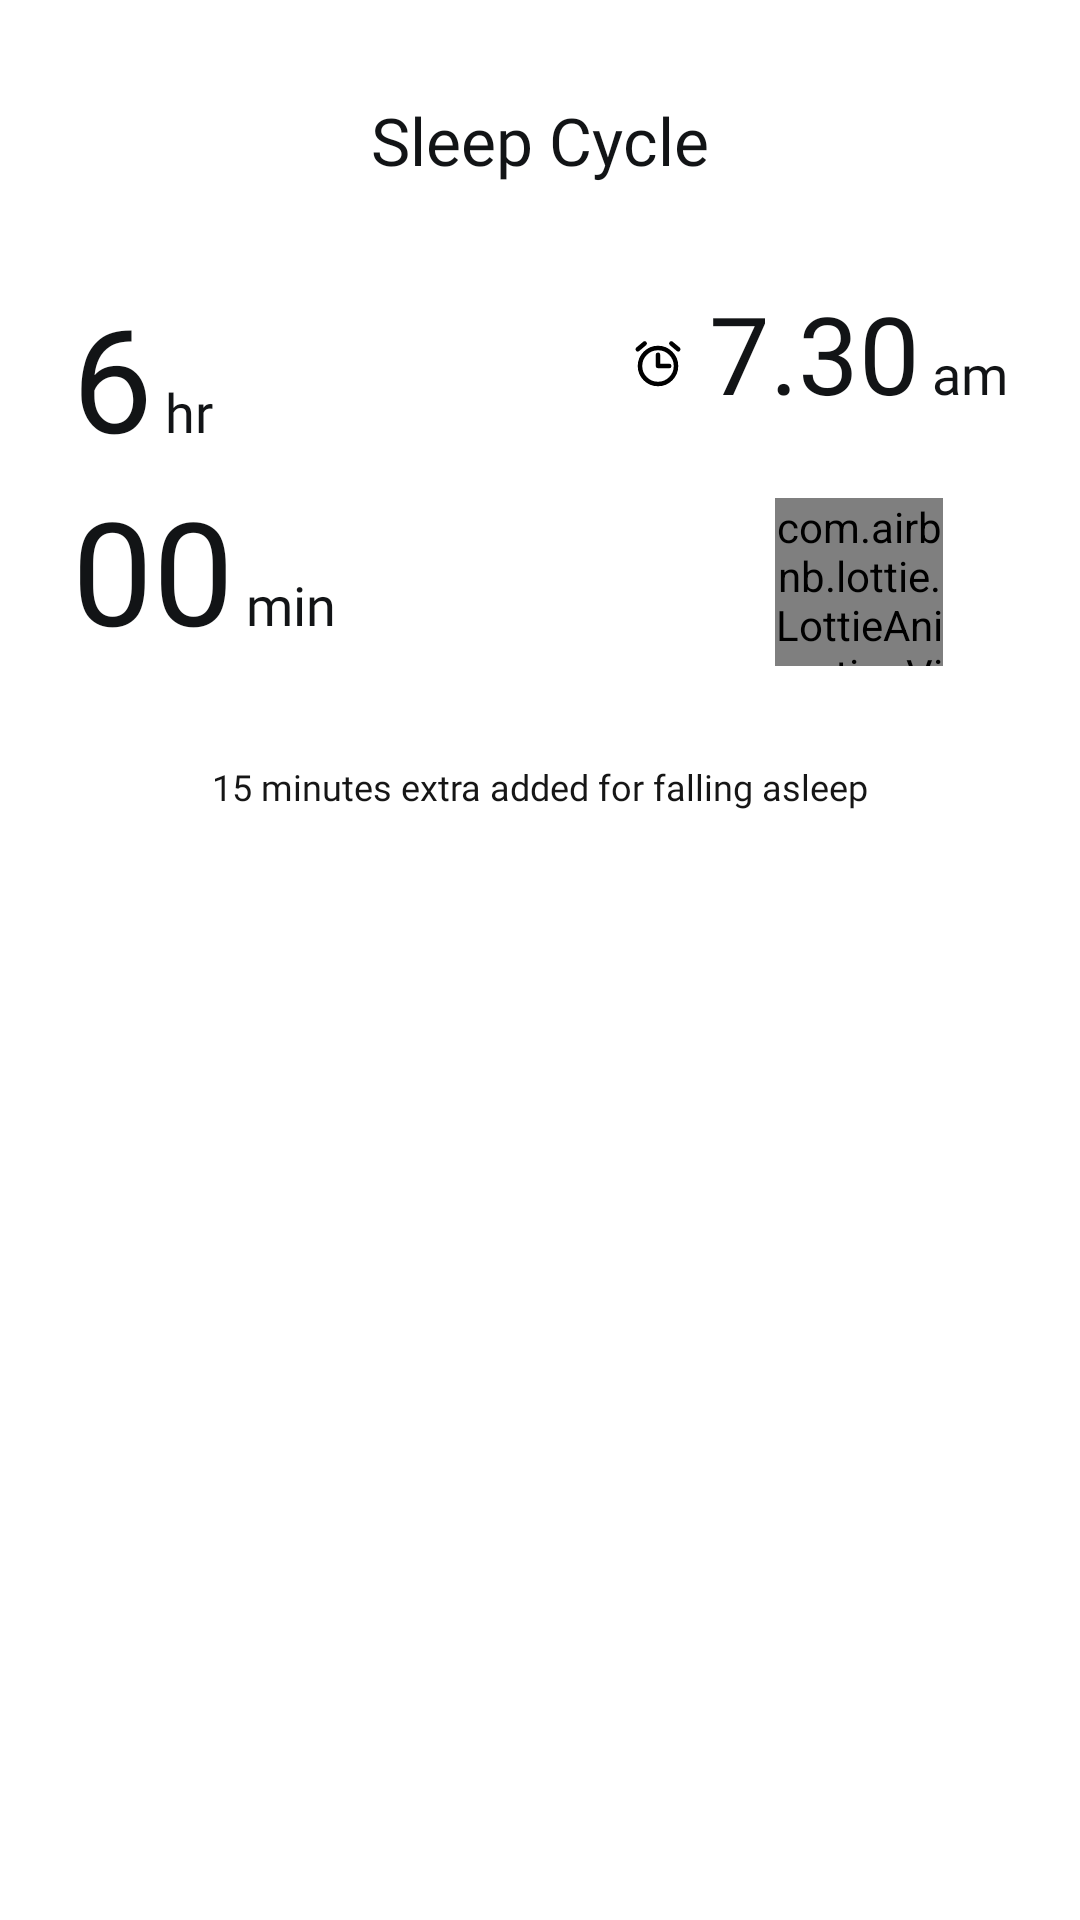

Screen size 1080 × 1920. Icon name, then its box in pixels as detection(x1, y1, x2, y2):
alarm: detection(635, 341, 681, 387)
